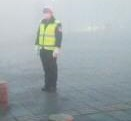person: (33, 6, 63, 93)
